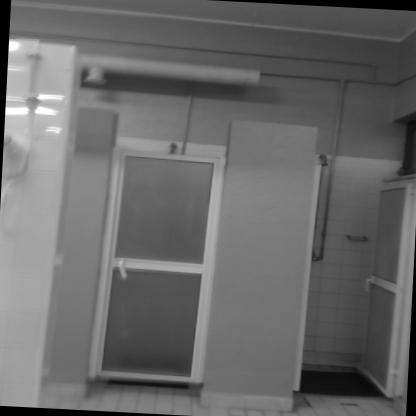closed: (86, 133, 233, 387)
open: (295, 142, 416, 416)
